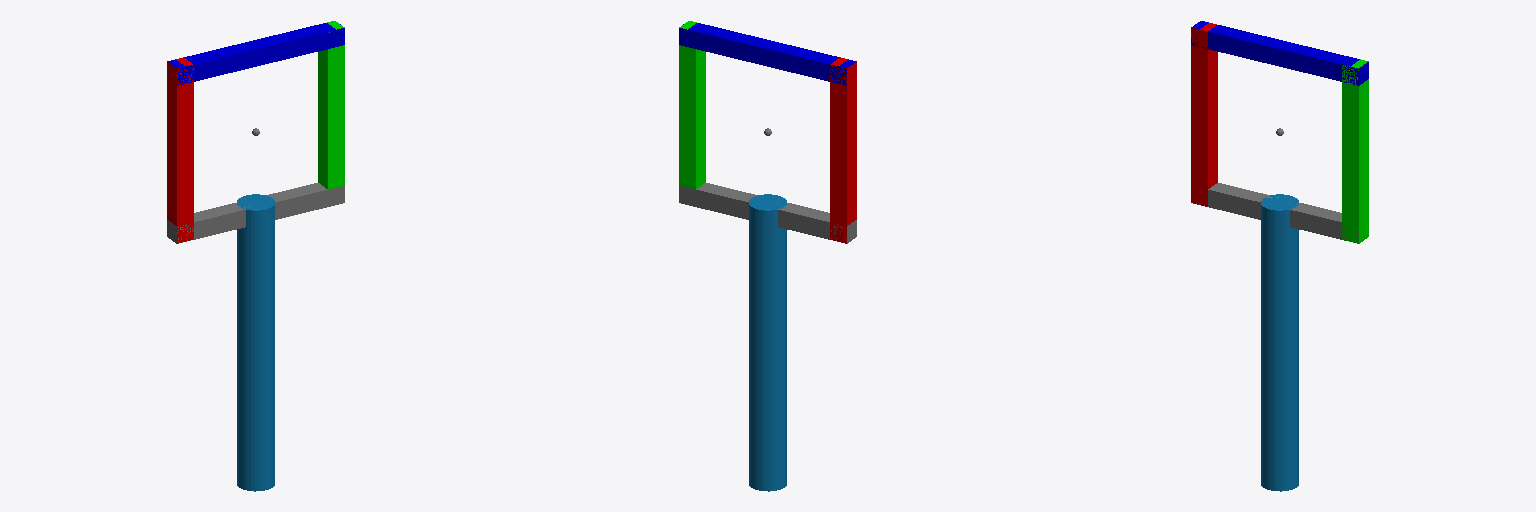
URDF robot description (gate):
<?xml version="1.0" ?>

<robot name="gate">

  <link name="base_link"> 
    <inertial>
      <mass value="0.0"/>
      <inertia ixx="0" ixy="0.0" ixz="0.0" iyy="0" iyz="0.0" izz="0"/>
    </inertial>
    <visual>
      <origin rpy="0 0 0" xyz="0 0 0"/>
      <geometry>
        <sphere radius="0.01"/>
      </geometry> 
      <material name="grey">
        <color rgba=".5 .5 .5 1"/>
      </material> 
    </visual>
  </link>

  <link name="grey_edge"> 
    <inertial>
      <origin rpy="0 0 0" xyz="0 0 -0.225"/>
      <mass value="0.0"/>
      <inertia ixx="0" ixy="0.0" ixz="0.0" iyy="0" iyz="0.0" izz="0"/>
    </inertial>
    <visual>
      <origin rpy="0 0 0" xyz="0 0 -0.225"/>
      <geometry>
        <box size=".5 .05 .05" />
      </geometry> 
      <material name="grey">
        <color rgba=".5 .5 .5 1"/>
      </material> 
    </visual>
    <collision>
      <origin rpy="0 0 0" xyz="0 0 -0.225"/>
      <geometry>
        <box size=".5 .05 .05" />
      </geometry>
    </collision>  
  </link>

  <joint name="grey_joint" type="fixed">
    <parent link="base_link"/>
    <child link="grey_edge"/>
  </joint>

  <link name="blue_edge"> 
    <inertial>
      <origin rpy="0 0 0" xyz="0 0 0.225"/>
      <mass value="0.0"/>
      <inertia ixx="0" ixy="0.0" ixz="0.0" iyy="0" iyz="0.0" izz="0"/>
    </inertial>
    <visual>
      <origin rpy="0 0 0" xyz="0 0 0.225"/>
      <geometry>
        <box size=".5 .05 .05" />
      </geometry> 
      <material name="blue">
        <color rgba=".0 .0 .9 1"/>
      </material> 
    </visual>
    <collision>
      <origin rpy="0 0 0" xyz="0 0 0.225"/>
      <geometry>
        <box size=".5 .05 .05" />
      </geometry>
    </collision>  
  </link>

  <joint name="blue_joint" type="fixed">
    <parent link="base_link"/>
    <child link="blue_edge"/>
  </joint>

  <link name="green_edge"> 
    <inertial>
      <origin rpy="0 1.57 0" xyz="0.225 0 0"/>
      <mass value="0.0"/>
      <inertia ixx="0" ixy="0.0" ixz="0.0" iyy="0" iyz="0.0" izz="0"/>
    </inertial>
    <visual>
      <origin rpy="0 1.57 0" xyz="0.225 0 0"/>
      <geometry>
        <box size=".5 .05 .05" />
      </geometry> 
      <material name="green">
        <color rgba=".0 .9 .0 1"/>
      </material> 
    </visual>
    <collision>
      <origin rpy="0 1.57 0" xyz="0.225 0 0"/>
      <geometry>
        <box size=".5 .05 .05" />
      </geometry>
    </collision>  
  </link>

  <joint name="green_joint" type="fixed">
    <parent link="base_link"/>
    <child link="green_edge"/>
  </joint>

  <link name="red_edge"> 
    <inertial>
      <origin rpy="0 1.57 0" xyz="-0.225 0 0"/>
      <mass value="0.0"/>
      <inertia ixx="0" ixy="0.0" ixz="0.0" iyy="0" iyz="0.0" izz="0"/>
    </inertial>
    <visual>
      <origin rpy="0 1.57 0" xyz="-0.225 0 0"/>
      <geometry>
        <box size=".5 .05 .05" />
      </geometry> 
      <material name="red">
        <color rgba=".9 .0 .0 1"/>
      </material> 
    </visual>
    <collision>
      <origin rpy="0 1.57 0" xyz="-0.225 0 0"/>
      <geometry>
        <box size=".5 .05 .05" />
      </geometry>
    </collision>  
  </link>

  <joint name="red_joint" type="fixed">
    <parent link="base_link"/>
    <child link="red_edge"/>
  </joint>

  <link name="support"> 
    <inertial>
      <origin rpy="0 0 0" xyz="0 0 0"/>
      <mass value="0.0"/>
      <inertia ixx="0" ixy="0.0" ixz="0.0" iyy="0" iyz="0.0" izz="0"/>
    </inertial>

    <visual>
      <origin rpy="0 0 0" xyz="0 0 0"/>
      <geometry>
        <cylinder length=".8" radius="0.05" />
      </geometry> 
      <material name="kindablue">
        <color rgba=".1 .5 .7 1"/>
      </material> 
    </visual>

    <collision>
      <origin rpy="0 0 0" xyz="0 0 0"/>
      <geometry>
        <cylinder length=".8" radius="0.05" />
      </geometry>
    </collision>  

  </link>
    <joint name="support_joint" type="fixed">
    <origin rpy="0 0 0" xyz="0 0 -0.6"/>
    <parent link="base_link"/>
    <child link="support"/>
  </joint>


</robot>

--- What the picture shows (computed from the rendered views, not written in the file) ---
3 views of the same robot in one strip: view 1: azimuth 30°, elevation 25°; view 2: azimuth 150°, elevation 25°; view 3: azimuth 330°, elevation 25° (orthographic).
Model gate with 6 links and 5 joints (5 fixed), rooted at base_link, posed every joint at zero.
Links seen in each view (by area): view 1: support, red_edge, blue_edge, green_edge, grey_edge; view 2: support, red_edge, blue_edge, green_edge, grey_edge; view 3: support, green_edge, red_edge, blue_edge, grey_edge.
Link boxes in pixels (bbox=[...]): support: bbox=[237, 194, 274, 491]; red_edge: bbox=[167, 57, 193, 243]; blue_edge: bbox=[167, 23, 344, 85]; green_edge: bbox=[318, 21, 344, 189]; grey_edge: bbox=[167, 183, 344, 243]; support: bbox=[749, 194, 786, 491]; red_edge: bbox=[830, 57, 856, 243]; blue_edge: bbox=[679, 23, 856, 85]; green_edge: bbox=[679, 21, 705, 189]; grey_edge: bbox=[679, 183, 856, 243]; support: bbox=[1261, 194, 1298, 491]; green_edge: bbox=[1342, 59, 1368, 243]; red_edge: bbox=[1191, 23, 1217, 206]; blue_edge: bbox=[1191, 21, 1368, 85]; grey_edge: bbox=[1198, 183, 1358, 242].
Bounding box of the posed robot: 0.5004 × 0.1 × 1.25 m (x, y, z).
Geometry: primitives only (box / cylinder / sphere), no mesh files.
